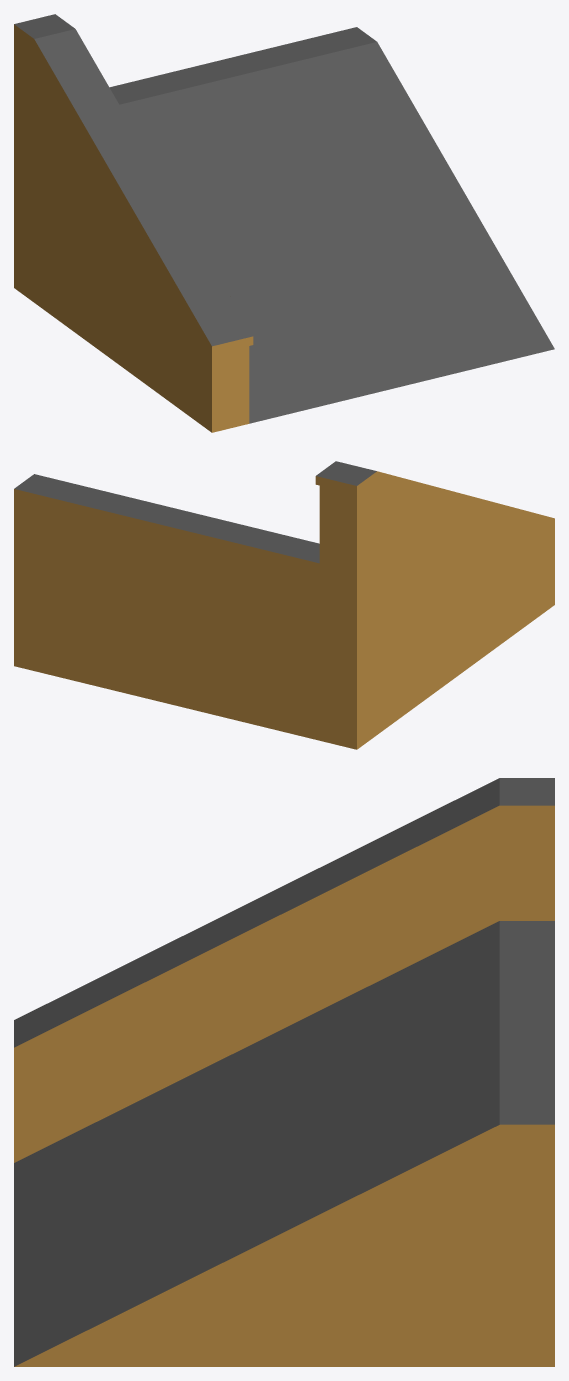
File: Skate_Wedge_Slide_Rail_01.FBX
3 views of the same model, one above another, from view 1: azimuth 30°, elevation 25°; view 2: azimuth 150°, elevation 25°; view 3: azimuth 270°, elevation 25° (orthographic). The views are drawn at different scales.
Parts seen in each view (by area): view 1: Skate_Wedge_Slide_Rail_01; view 2: Skate_Wedge_Slide_Rail_01; view 3: Skate_Wedge_Slide_Rail_01.
Boxes of the visible parts, <box> form: Skate_Wedge_Slide_Rail_01: <box>14,14,554,432</box>; Skate_Wedge_Slide_Rail_01: <box>14,461,554,749</box>; Skate_Wedge_Slide_Rail_01: <box>14,778,554,1366</box>.
Size of the model in its own units: 3 by 2.2 by 3.
